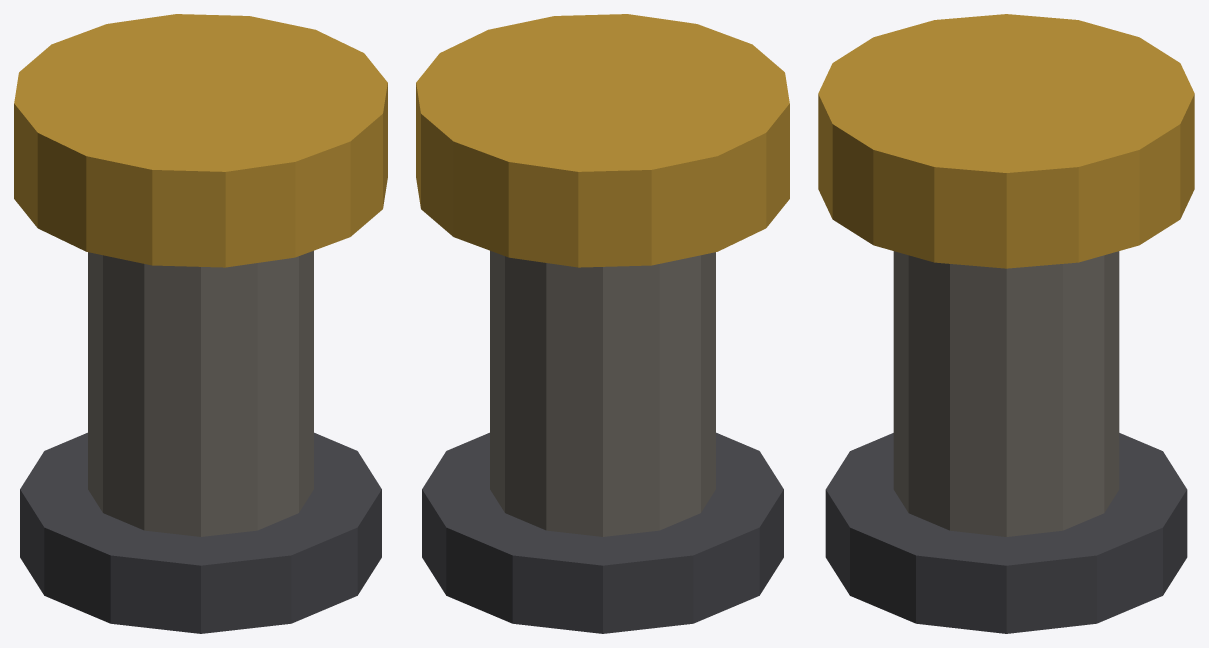
The model's file is dungeon_brazier_variant_b.obj.
The picture shows the model from 3 angles, left to right: view 1: azimuth 30°, elevation 25°; view 2: azimuth 150°, elevation 25°; view 3: azimuth 270°, elevation 25°; orthographic projection.
Visible parts, largest first — view 1: dungeon_brazier_variant_b; view 2: dungeon_brazier_variant_b; view 3: dungeon_brazier_variant_b.
Boxes of the visible parts, <box> form: dungeon_brazier_variant_b: <box>14,14,387,633</box>; dungeon_brazier_variant_b: <box>416,14,789,633</box>; dungeon_brazier_variant_b: <box>818,14,1194,633</box>.
Size of the model in its own units: 0.5 by 0.68 by 0.5.
